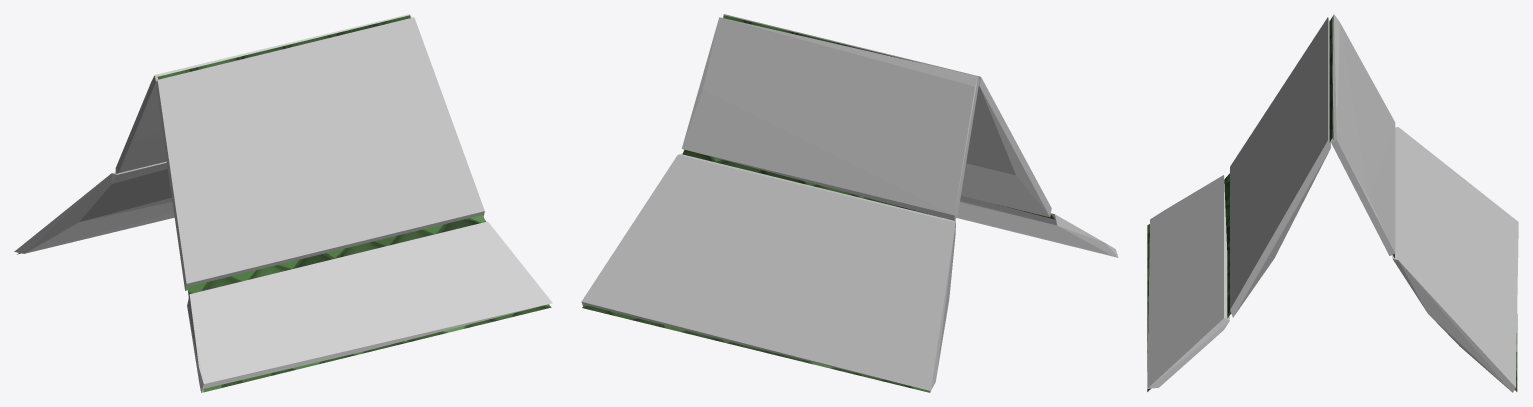
File: SM_Prop_Garden_Hut_01_Roof.fbx
The picture shows the model from 3 angles, left to right: view 1: azimuth 30°, elevation 25°; view 2: azimuth 150°, elevation 25°; view 3: azimuth 270°, elevation 25°; orthographic projection.
Visible parts, largest first — view 1: SM_Prop_Garden_Hut_01_Roof_ConvexHulls, SM_Prop_Garden_Hut_01_Roof; view 2: SM_Prop_Garden_Hut_01_Roof_ConvexHulls, SM_Prop_Garden_Hut_01_Roof; view 3: SM_Prop_Garden_Hut_01_Roof_ConvexHulls, SM_Prop_Garden_Hut_01_Roof.
Boxes of the visible parts, box(x1,y1,x2,y2) form: SM_Prop_Garden_Hut_01_Roof_ConvexHulls: box(14, 14, 552, 392); SM_Prop_Garden_Hut_01_Roof: box(17, 15, 551, 392); SM_Prop_Garden_Hut_01_Roof_ConvexHulls: box(581, 14, 1118, 390); SM_Prop_Garden_Hut_01_Roof: box(582, 15, 1117, 392); SM_Prop_Garden_Hut_01_Roof_ConvexHulls: box(1147, 14, 1518, 392); SM_Prop_Garden_Hut_01_Roof: box(1147, 17, 1517, 391).
Size of the model in its own units: 271 by 253 by 176.
Materials: 2 (1 with a texture image).
